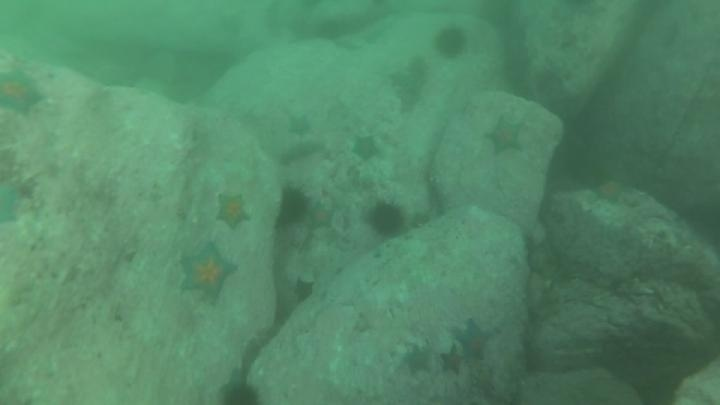echinus: (365, 199, 408, 240), (276, 184, 312, 227), (474, 1, 521, 33), (431, 24, 470, 61), (217, 379, 263, 405), (404, 54, 432, 84)
starfish: (177, 241, 240, 305), (0, 68, 48, 119), (452, 316, 499, 364), (482, 113, 529, 159), (213, 190, 253, 231), (0, 177, 31, 228), (400, 343, 434, 377), (591, 177, 630, 206), (305, 200, 337, 233), (349, 132, 382, 163), (284, 111, 315, 140), (438, 346, 465, 377), (290, 276, 317, 305)
